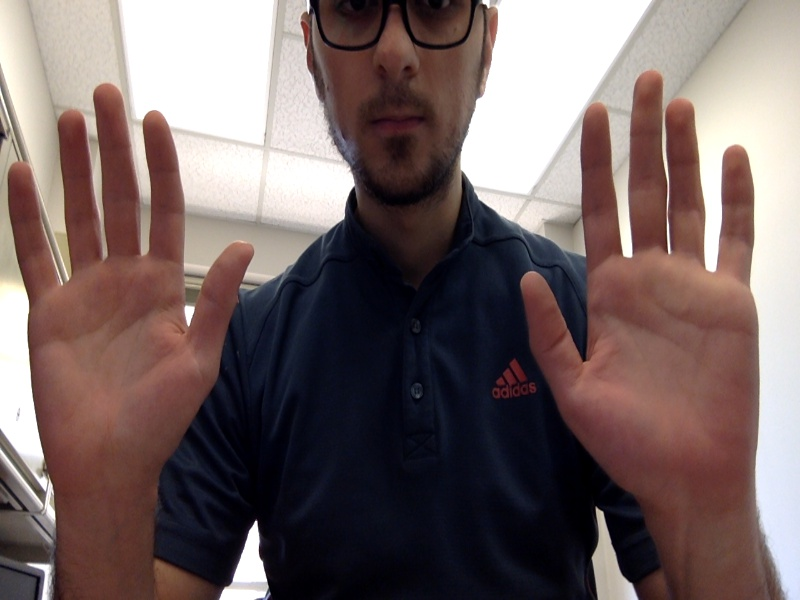5-hand: (520, 74, 760, 506), (8, 85, 251, 484)
